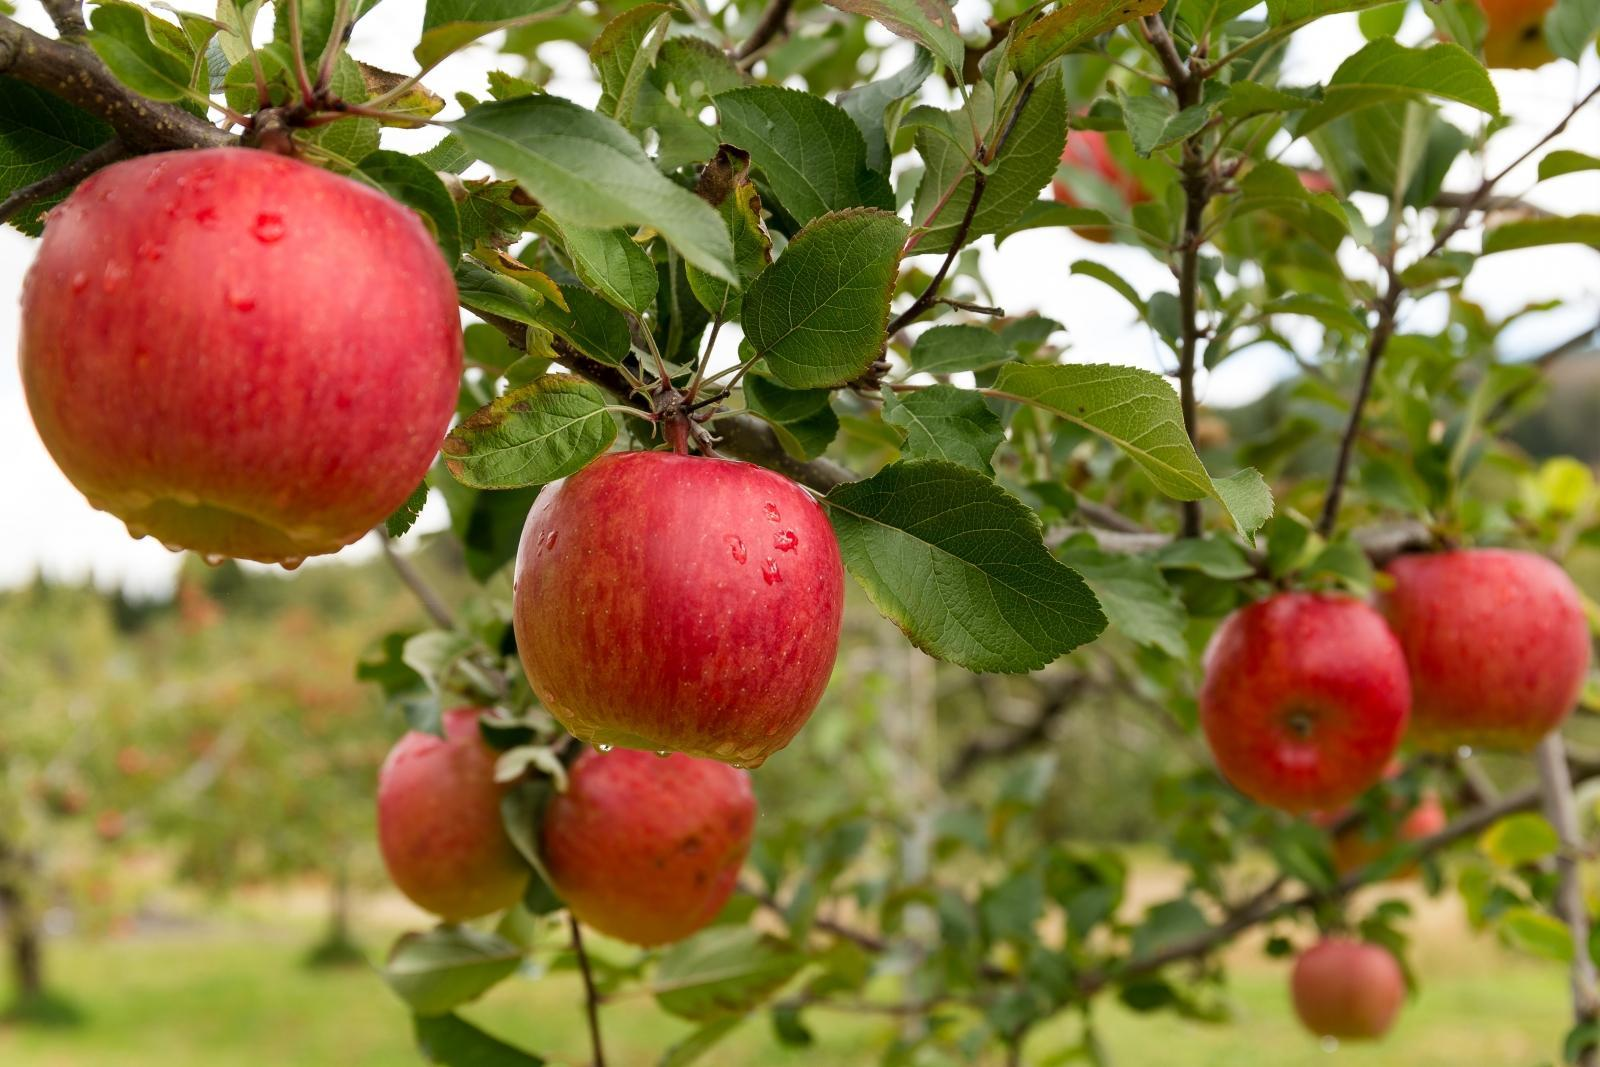apple: (12, 148, 471, 568), (512, 445, 843, 769), (1206, 584, 1407, 824), (533, 742, 750, 951), (1380, 545, 1590, 745), (373, 710, 530, 925)
